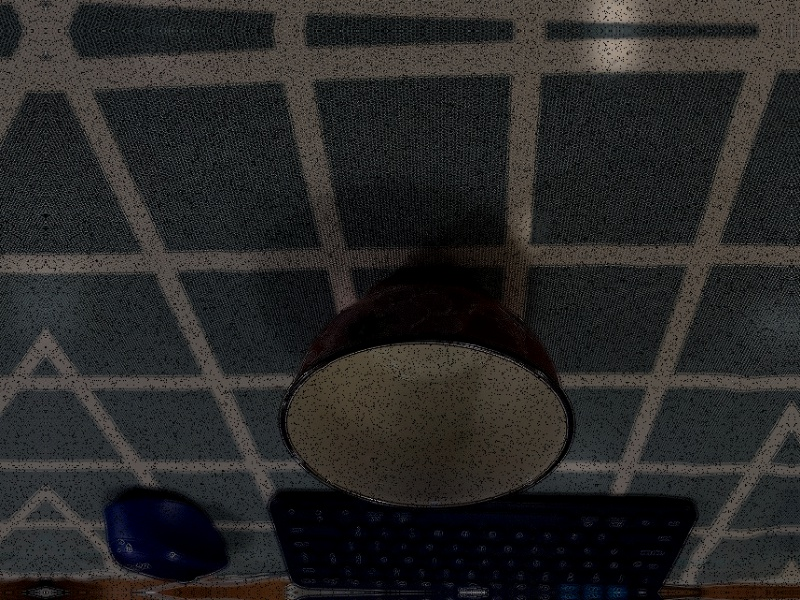bowl_small: (270, 260, 579, 514)
